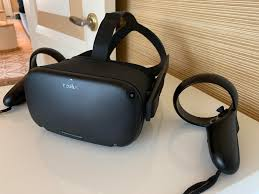oculus: (23, 48, 164, 151)
